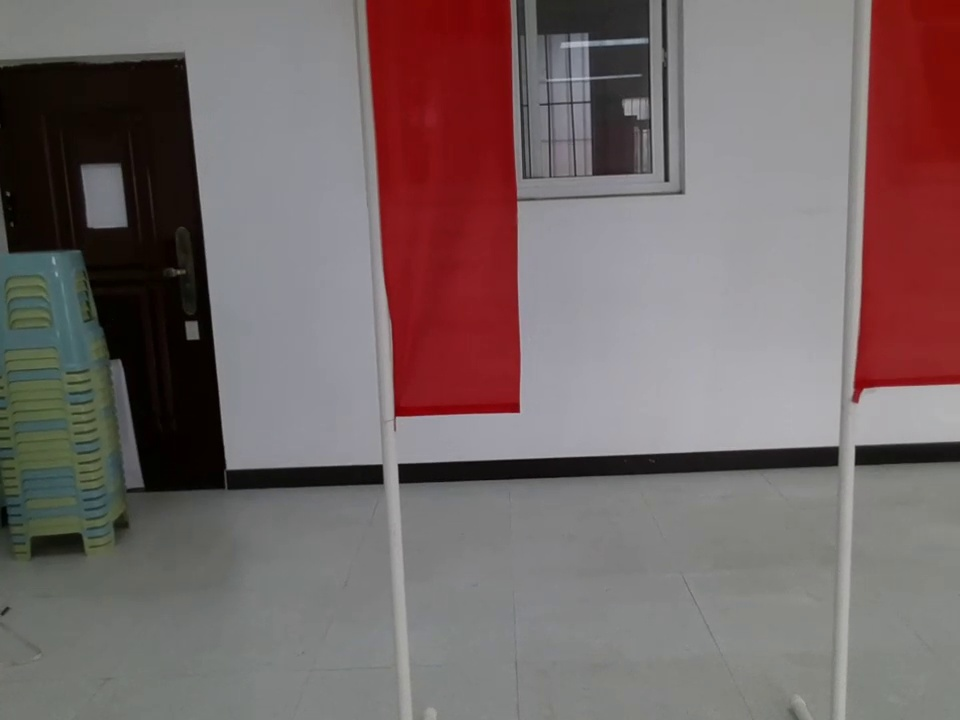qi: (344, 1, 531, 416), (829, 1, 960, 442)
